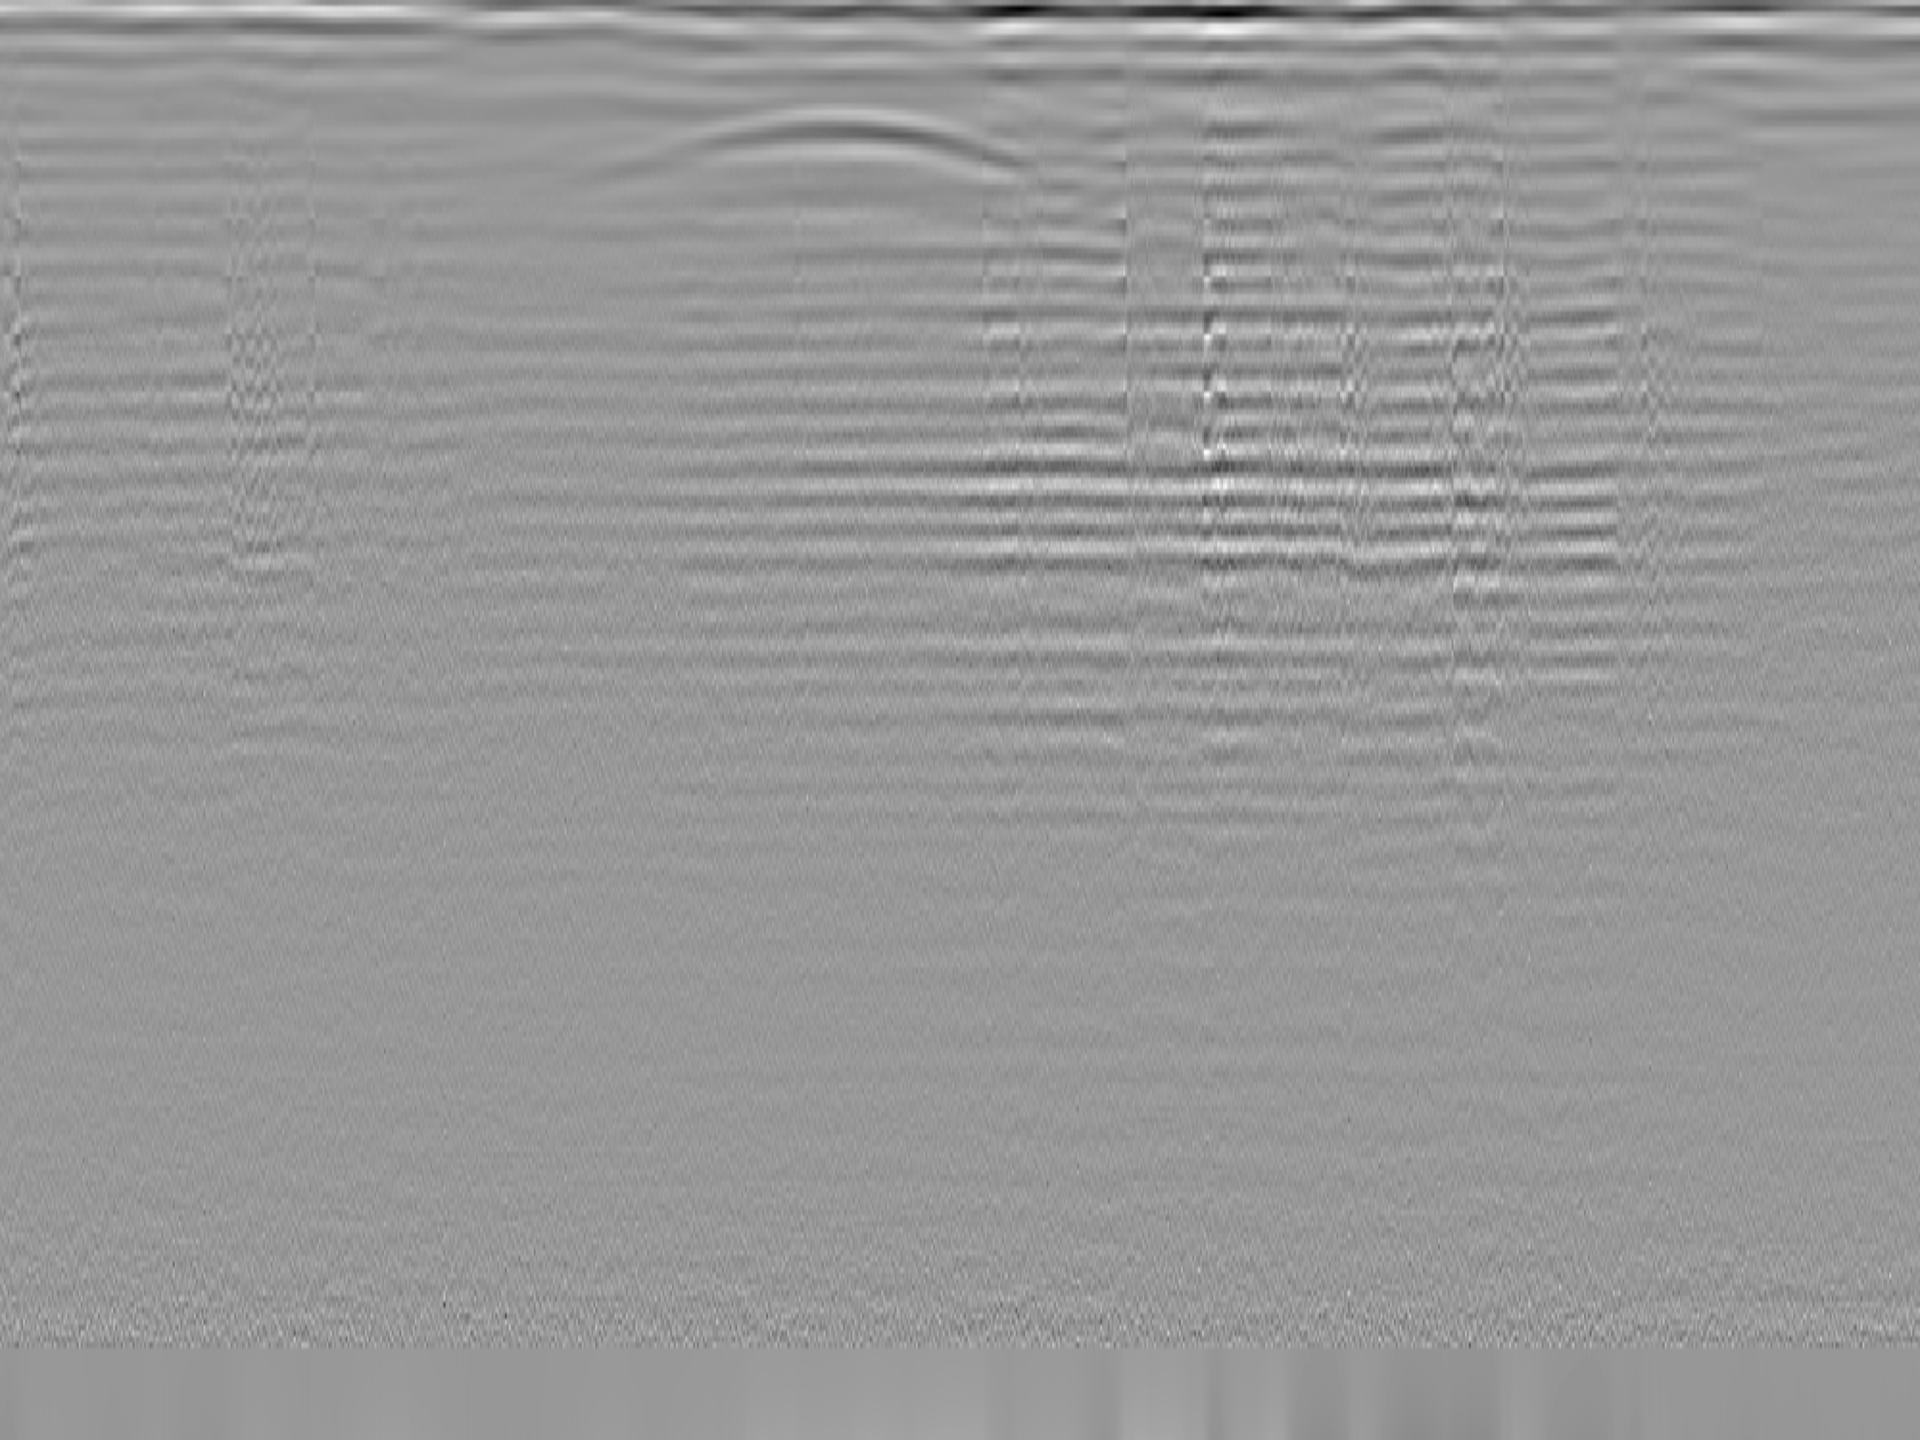Tunnel: (567, 104, 1061, 185)
